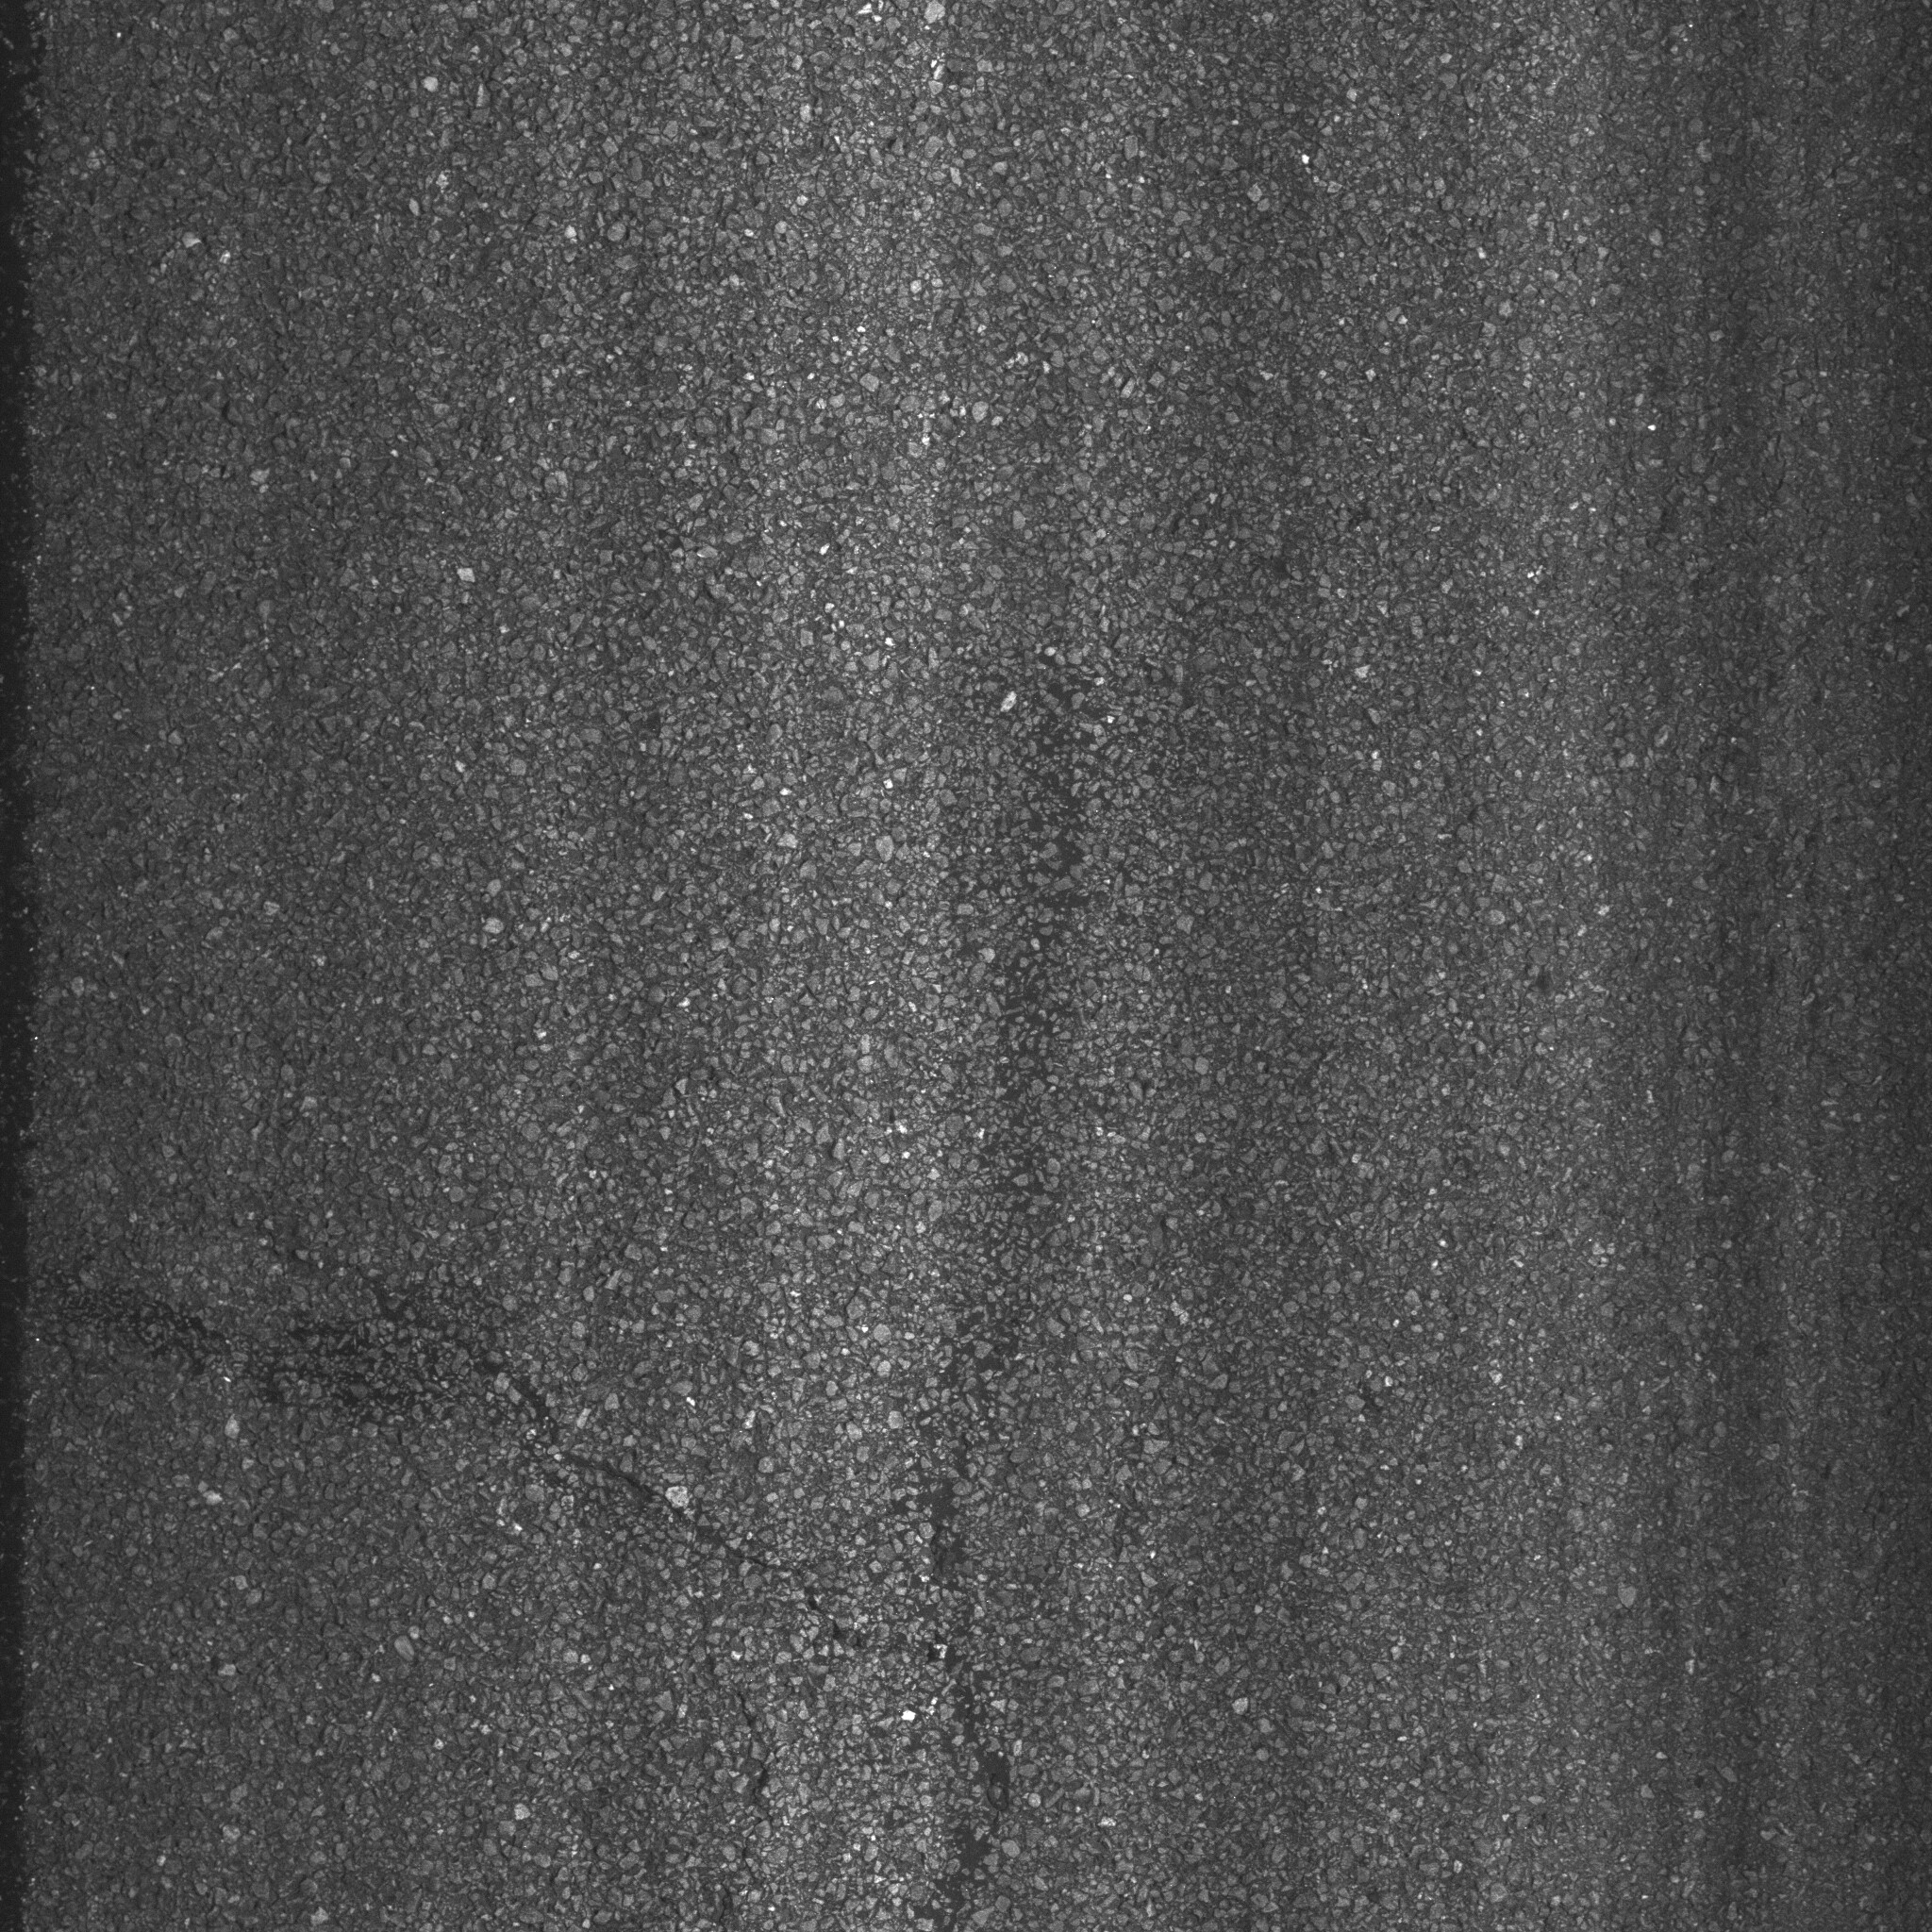transverse: (111, 1129, 1019, 1702)
